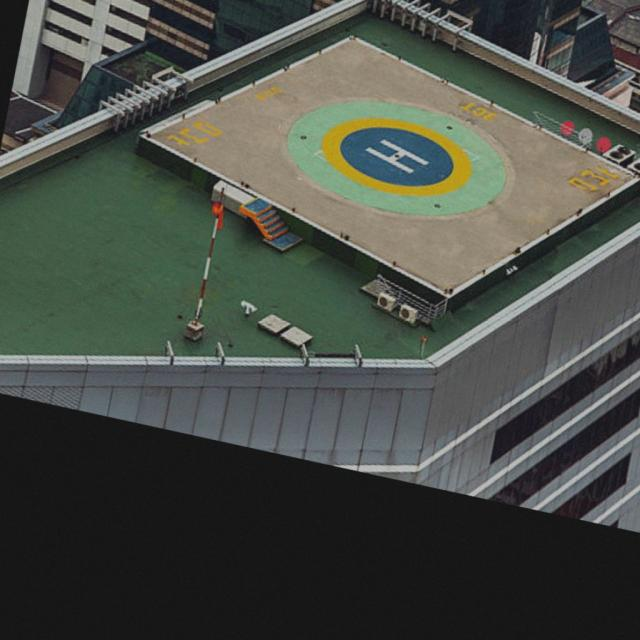helipad: (321, 112, 473, 200)
